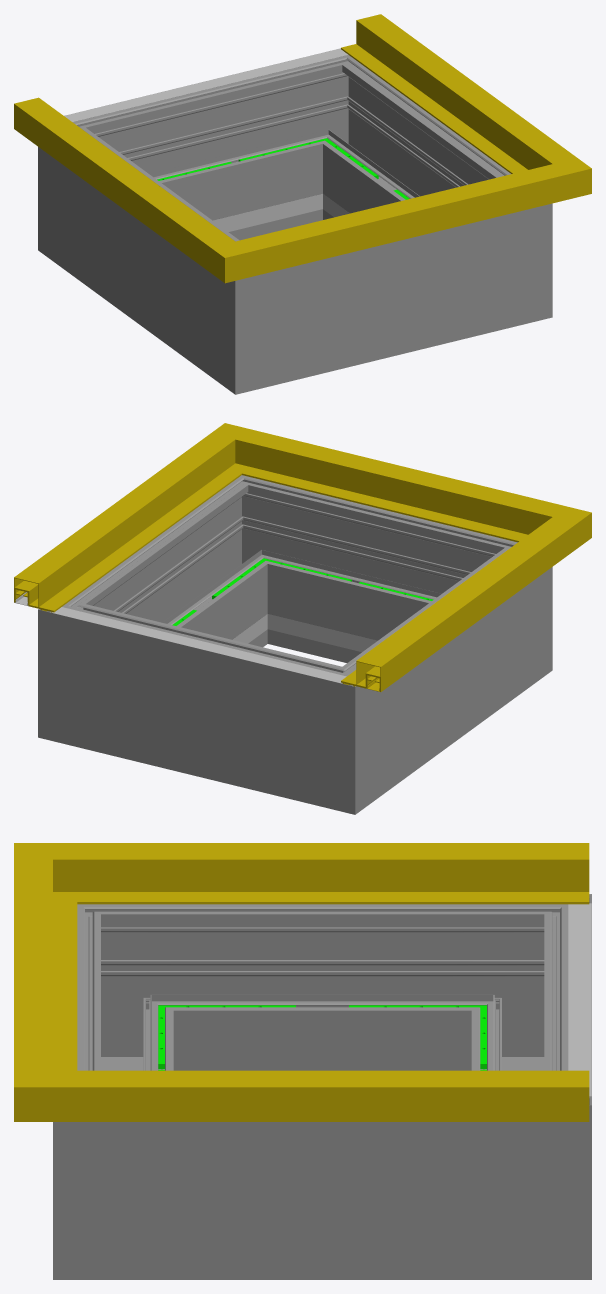
3 views of the same model, one above another, from view 1: azimuth 30°, elevation 25°; view 2: azimuth 150°, elevation 25°; view 3: azimuth 270°, elevation 25° (orthographic). The views are drawn at different scales.
Visible parts, largest first — view 1: 3DGeom-276, 3DGeom-270, 3DGeom-298, 3DGeom-284, 3DGeom-290, 3DGeom-128, 3DGeom-268, 3DGeom-297, 3DGeom-278, 3DGeom-118, 3DGeom-123, 3DGeom-120 (+3 smaller); view 2: 3DGeom-278, 3DGeom-276, 3DGeom-298, 3DGeom-284, 3DGeom-290, 3DGeom-128, 3DGeom-297, 3DGeom-268, 3DGeom-123, 3DGeom-118, 3DGeom-270, 3DGeom-125 (+3 smaller); view 3: 3DGeom-268, 3DGeom-297, 3DGeom-118, 3DGeom-284, 3DGeom-290, 3DGeom-128, 3DGeom-278, 3DGeom-270, 3DGeom-120, 3DGeom-125, 3DGeom-123, 3DGeom-220 (+3 smaller).
Boxes of the visible parts, <box> form: 3DGeom-276: <box>131,67,307,240</box>; 3DGeom-270: <box>182,220,327,394</box>; 3DGeom-298: <box>327,226,460,372</box>; 3DGeom-284: <box>269,48,392,223</box>; 3DGeom-290: <box>461,154,552,339</box>; 3DGeom-128: <box>341,14,538,164</box>; 3DGeom-268: <box>91,153,212,355</box>; 3DGeom-297: <box>331,87,484,217</box>; 3DGeom-278: <box>38,101,173,288</box>; 3DGeom-118: <box>14,97,196,244</box>; 3DGeom-123: <box>302,180,500,260</box>; 3DGeom-120: <box>172,213,316,283</box>; 3DGeom-278: <box>263,641,408,814</box>; 3DGeom-276: <box>129,619,280,792</box>; 3DGeom-298: <box>283,494,452,662</box>; 3DGeom-284: <box>38,574,146,759</box>; 3DGeom-290: <box>197,475,318,647</box>; 3DGeom-128: <box>14,462,211,612</box>; 3DGeom-297: <box>106,507,258,646</box>; 3DGeom-268: <box>378,573,499,775</box>; 3DGeom-123: <box>293,445,499,532</box>; 3DGeom-118: <box>341,545,538,691</box>; 3DGeom-270: <box>417,526,552,708</box>; 3DGeom-125: <box>172,423,316,496</box>; 3DGeom-268: <box>197,904,447,1070</box>; 3DGeom-297: <box>197,1122,447,1279</box>; 3DGeom-118: <box>158,843,589,904</box>; 3DGeom-284: <box>447,1044,591,1279</box>; 3DGeom-290: <box>53,1044,197,1279</box>; 3DGeom-128: <box>158,1070,589,1121</box>; 3DGeom-278: <box>447,894,591,1070</box>; 3DGeom-270: <box>77,904,197,1070</box>; 3DGeom-120: <box>14,843,158,936</box>; 3DGeom-125: <box>14,1026,158,1121</box>; 3DGeom-123: <box>14,904,77,1058</box>; 3DGeom-220: <box>568,903,591,1097</box>.
Size of the model in its own units: 0.6096 by 0.2434 by 0.6096.
